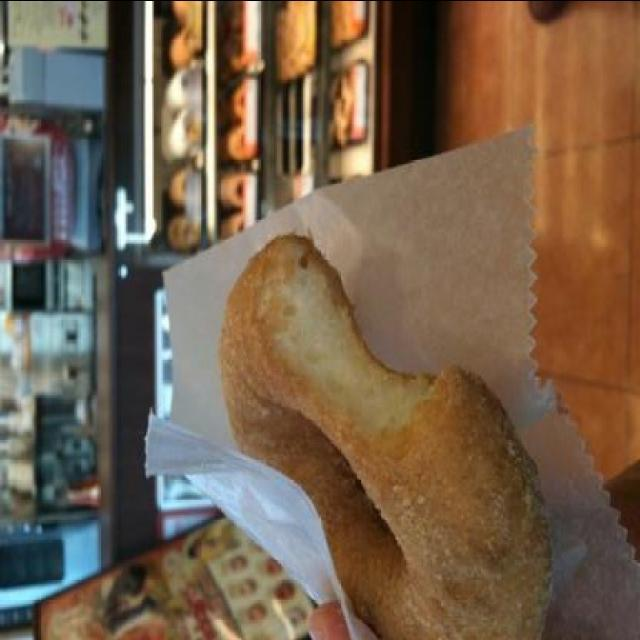Donuts: (222, 230, 560, 632)
